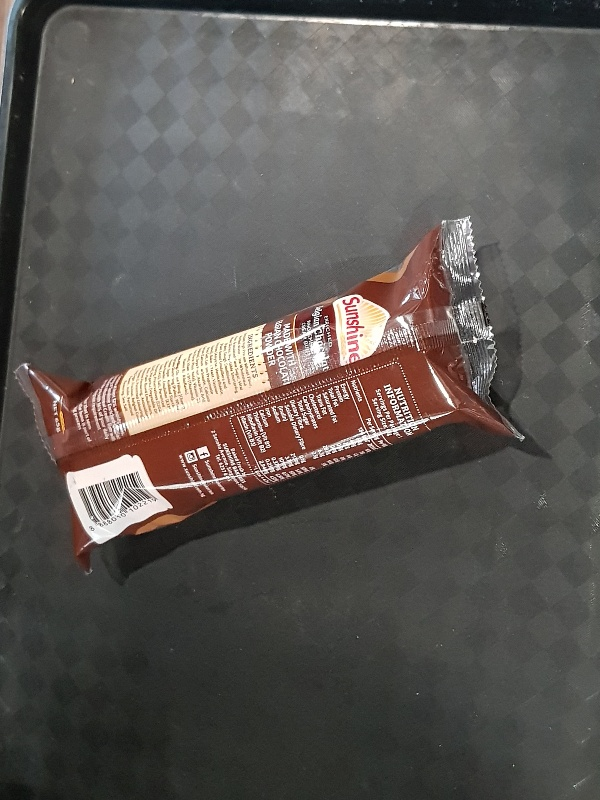Sunshine Belgium Chocolate Wholemeal Cream Bun: (14, 214, 526, 574)
